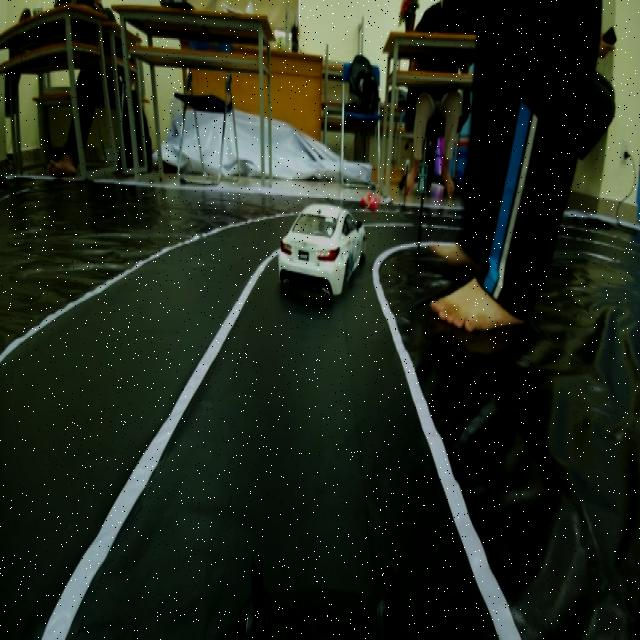car: (279, 192, 371, 305)
